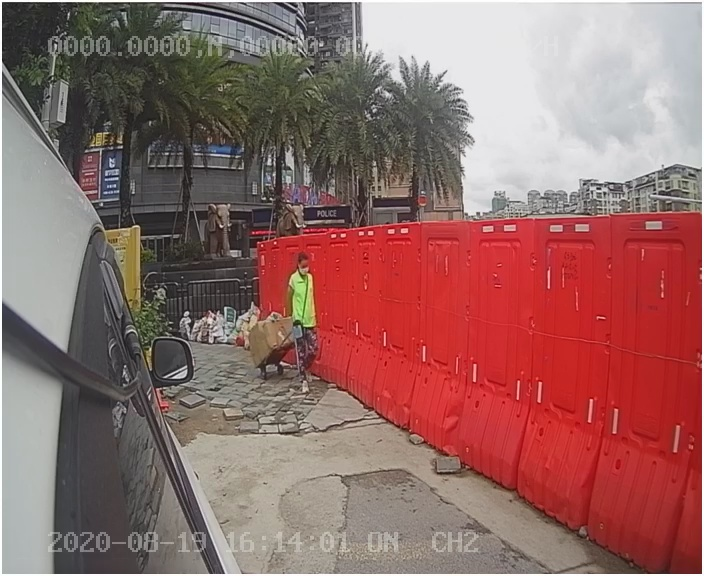person: (281, 247, 341, 400)
